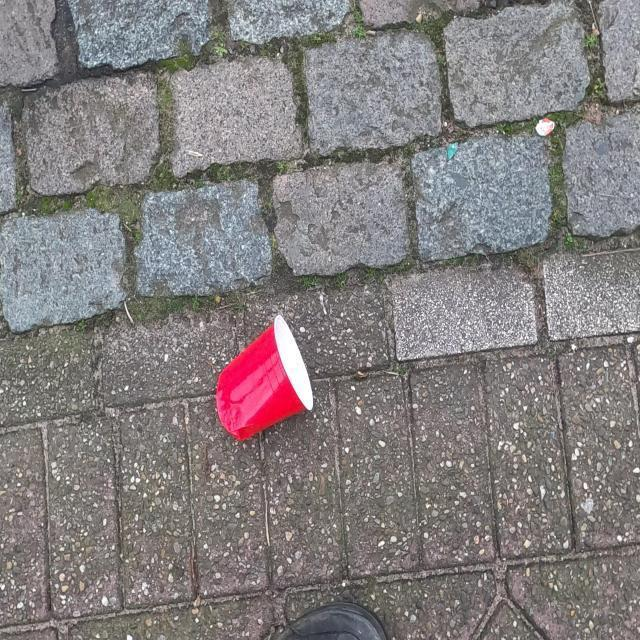Cup: (214, 314, 314, 444)
Plastic: (534, 117, 556, 138), (446, 142, 459, 160)
